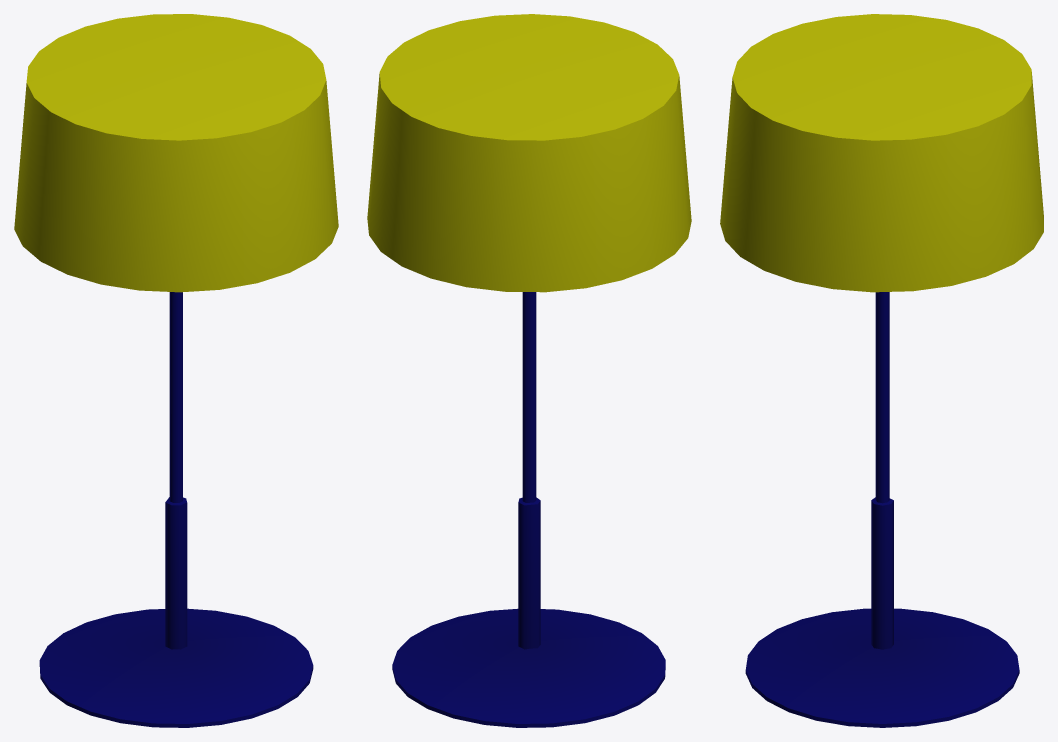
The model's file is DrumLamp003.glb.
The picture shows the model from 3 angles, left to right: view 1: azimuth 30°, elevation 25°; view 2: azimuth 150°, elevation 25°; view 3: azimuth 270°, elevation 25°; orthographic projection.
Parts seen in each view (by area): view 1: DrumLamp003; view 2: DrumLamp003; view 3: DrumLamp003.
Part boxes in pixels (bbox=[...]): DrumLamp003: bbox=[14, 14, 338, 727]; DrumLamp003: bbox=[367, 14, 691, 727]; DrumLamp003: bbox=[720, 14, 1043, 727].
Bounding box in the file's own units: 2.68 × 5.44 × 2.68.
